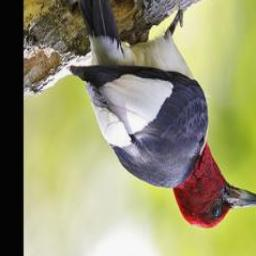Woodpecker: (71, 0, 256, 227)
